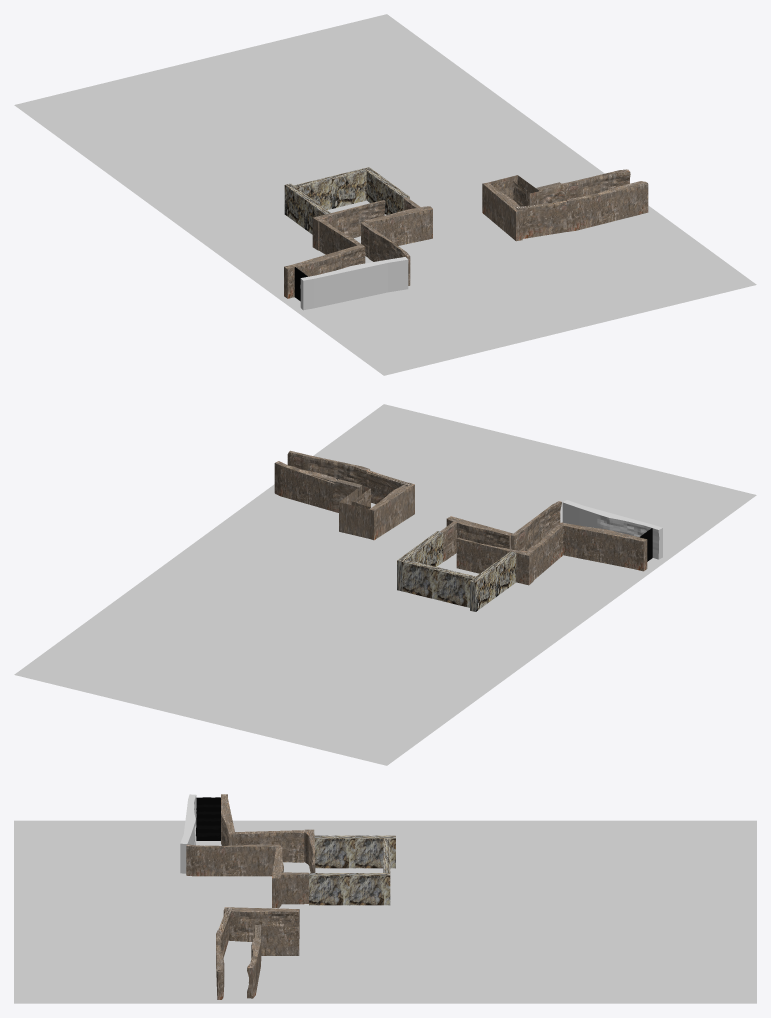
The model's file is underground.fbx.
3 views of the same model, one above another, from view 1: azimuth 30°, elevation 25°; view 2: azimuth 150°, elevation 25°; view 3: azimuth 270°, elevation 25° (orthographic).
Visible parts, largest first — view 1: Plane, Cube.074, Cube.065, Cube.064, Cube.072, Cube.069, Cube.075, Cube.066, Cube.067, Cube.070, Cube.071, Cube.068 (+1 smaller); view 2: Plane, Cube.064, Cube.075, Cube.072, Cube.074, Cube.065, Cube.066, Cube.070, Cube.067, Cube.076, Cube.068, Cube.069 (+1 smaller); view 3: Plane, Cube.068, Cube.071, Cube.070, Cube.064, Cube.067, Cube.076, Cube.057, Cube.073, Cube.074, Cube.065, Cube.075 (+2 smaller).
Part boxes in pixels (x1,y1,x2,y2): Plane: (14,14,756,375); Cube.074: (515,181,648,238); Cube.065: (300,257,408,310); Cube.064: (284,219,365,298); Cube.072: (294,168,366,209); Cube.069: (364,206,432,245); Cube.075: (535,169,630,204); Cube.066: (312,200,385,250); Cube.067: (482,182,522,241); Cube.070: (284,183,330,234); Cube.071: (363,167,409,214); Cube.068: (361,221,410,285); Plane: (14,404,756,765); Cube.064: (527,522,647,580); Cube.075: (274,461,361,512); Cube.072: (402,559,475,607); Cube.074: (287,450,411,503); Cube.065: (562,500,662,559); Cube.066: (456,537,533,585); Cube.070: (470,551,516,611); Cube.067: (368,482,414,540); Cube.076: (339,486,370,538); Cube.068: (511,501,561,550); Cube.069: (446,516,512,549); Plane: (14,820,756,1003); Cube.068: (186,844,280,876); Cube.071: (309,873,390,905); Cube.070: (314,835,395,868); Cube.064: (221,794,304,862); Cube.067: (223,907,299,941); Cube.076: (255,912,299,955); Cube.057: (196,797,220,840); Cube.073: (272,872,309,904); Cube.074: (216,907,231,999); Cube.065: (180,794,196,873); Cube.075: (247,924,261,998).
Bounding box in the file's own units: 3900 × 315 × 6700.
